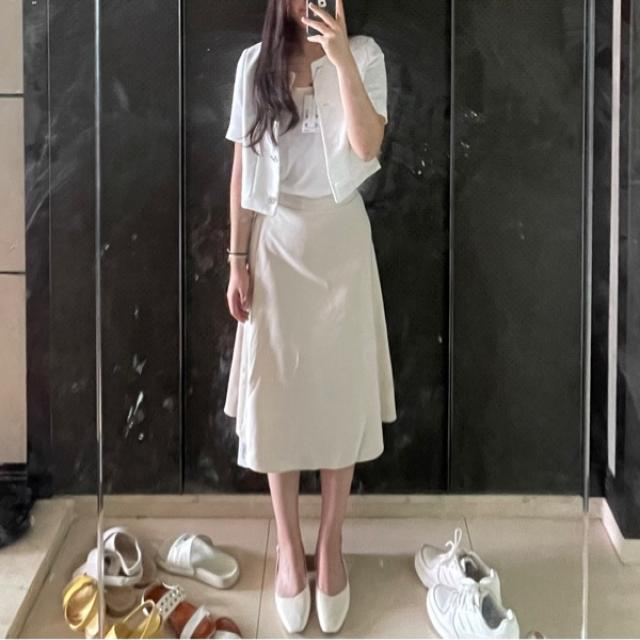blazer: (227, 30, 389, 218)
skirt: (223, 188, 397, 472)
